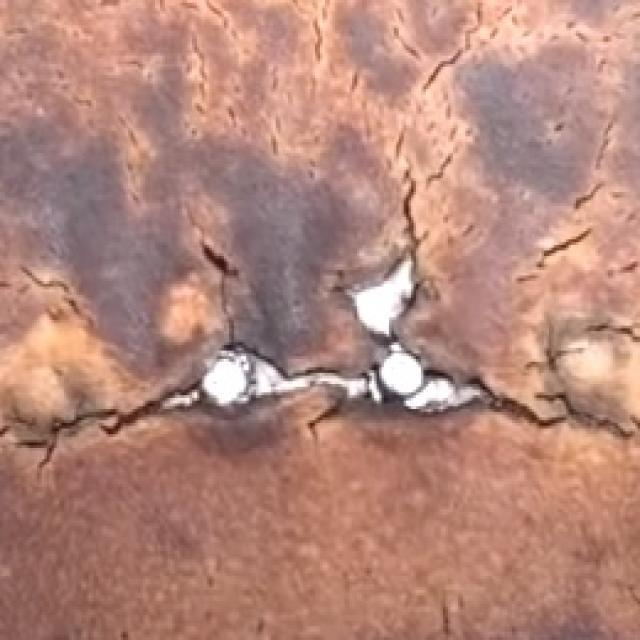crack: (10, 382, 217, 482), (202, 228, 271, 359), (389, 159, 441, 271)
